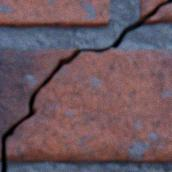brick: (0, 0, 108, 28)
broken_brick: (6, 50, 171, 162), (0, 50, 78, 160), (139, 0, 166, 21), (144, 5, 171, 25)
crack: (0, 0, 171, 171)
